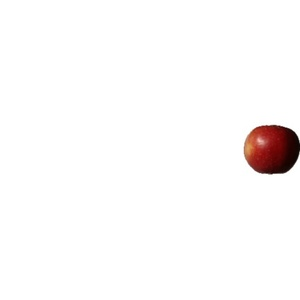maçã braeburn: (242, 121, 297, 177)
